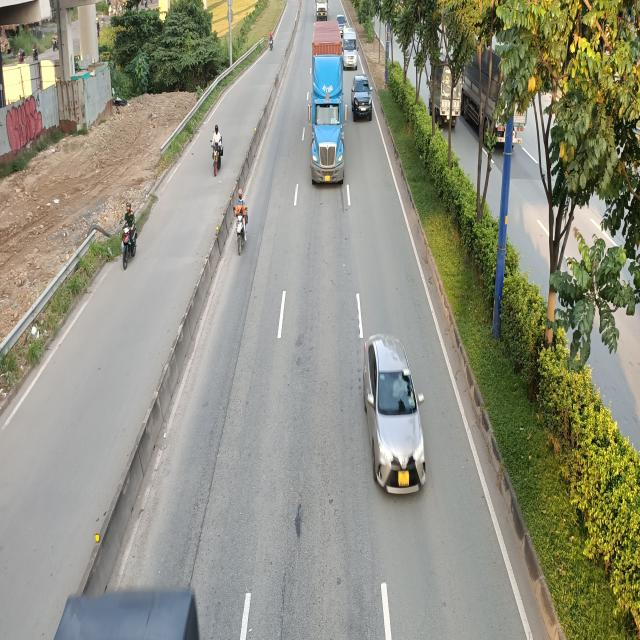car: (361, 335, 425, 496), (351, 73, 373, 121)
container: (311, 21, 349, 182)
van: (342, 29, 358, 70)
